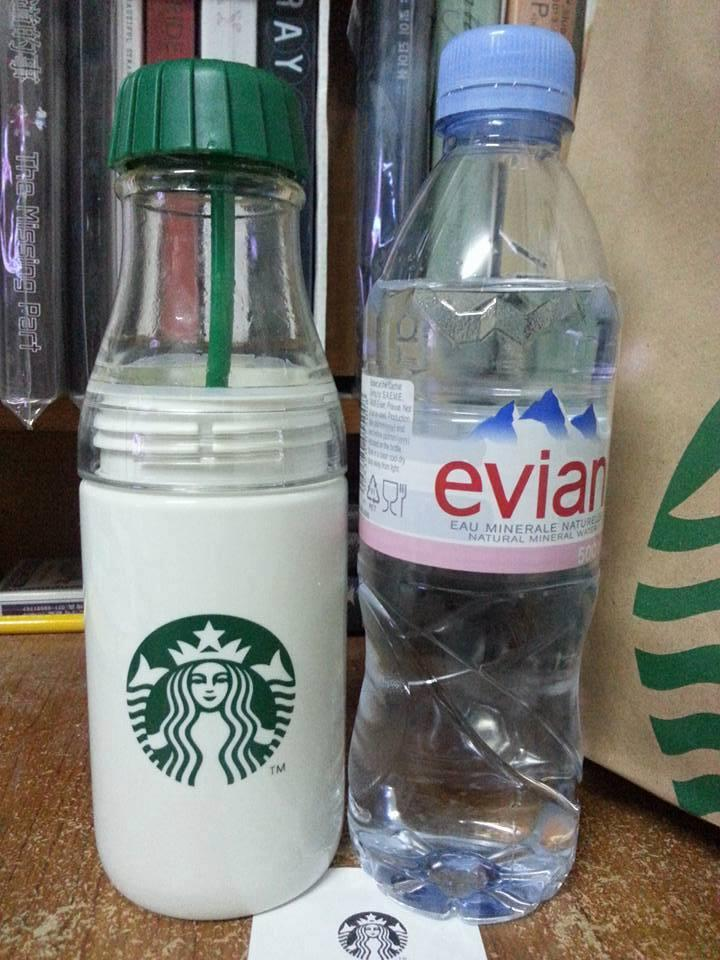plastic_bottle: (347, 17, 628, 925)
